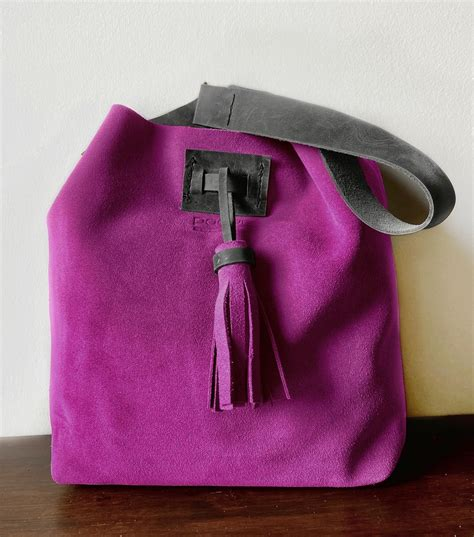gamuza: (47, 104, 405, 489)
